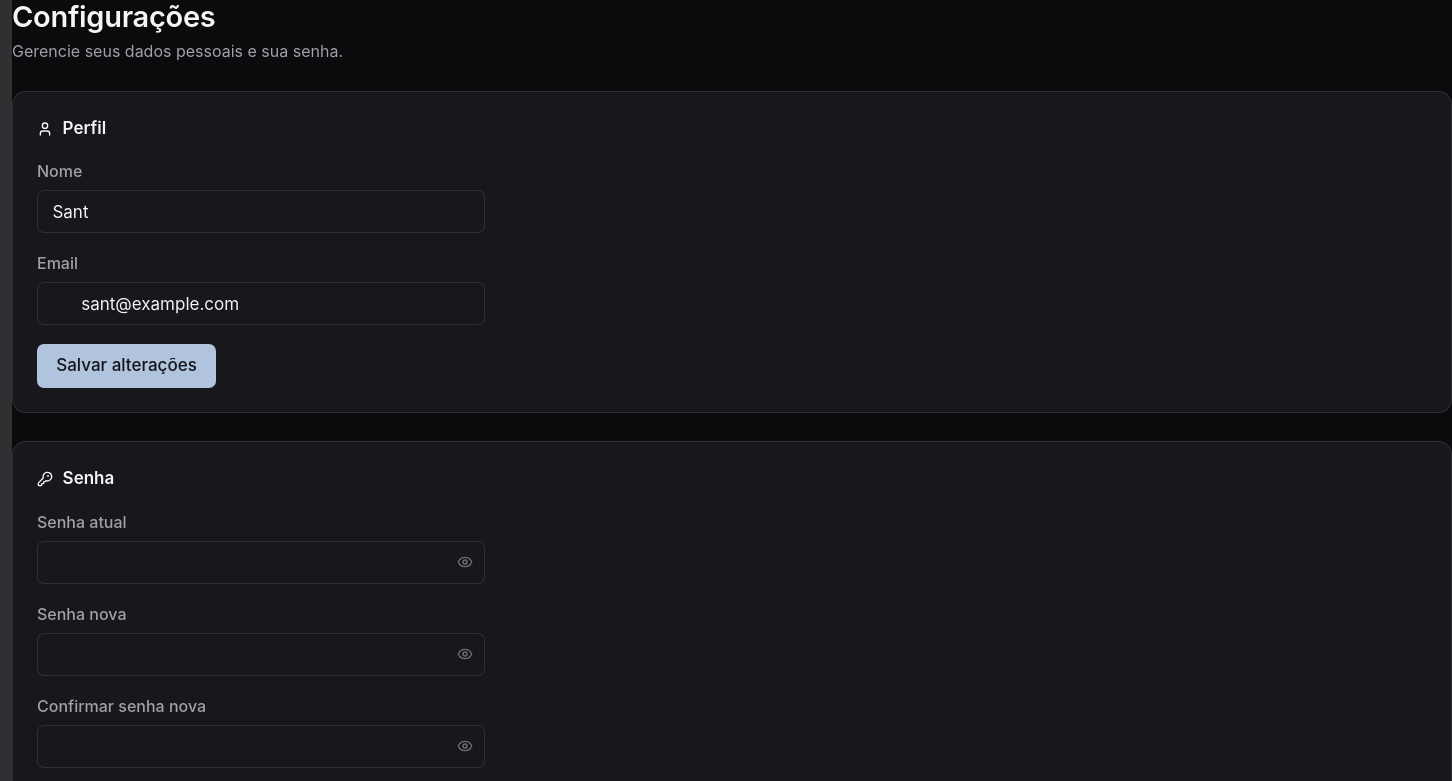
Test: ConfiguracoesPage › mapeia erro 401 de senha atual incorreta para o campo senha_atual
Expected: the field showing "Sant" is shown, [37, 190, 485, 233]
In the password field labelled "Senha atual": (261, 562) [37, 541, 485, 584], type "senhaErrada1"
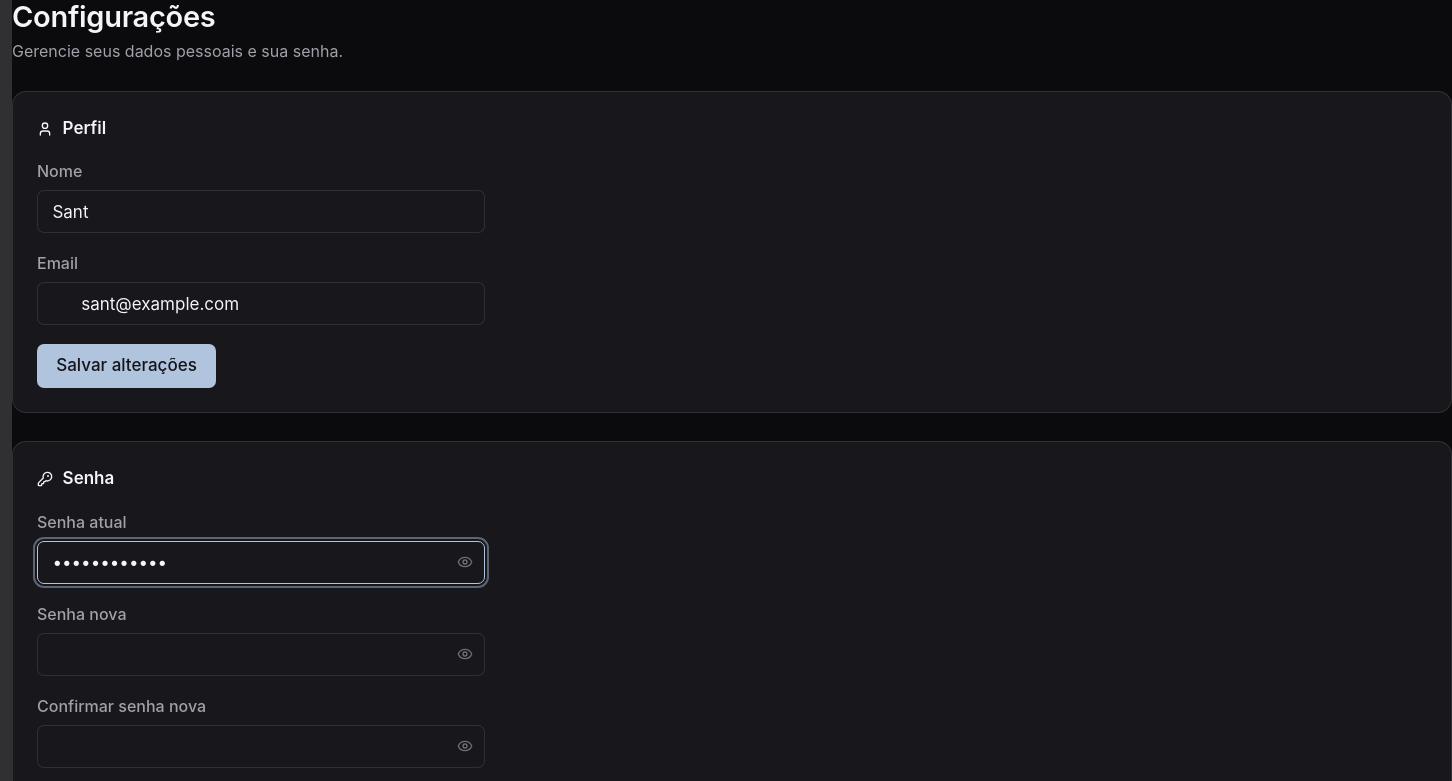
In the password field labelled "Senha nova": (261, 654) [37, 633, 485, 676], type "senhaNova123"
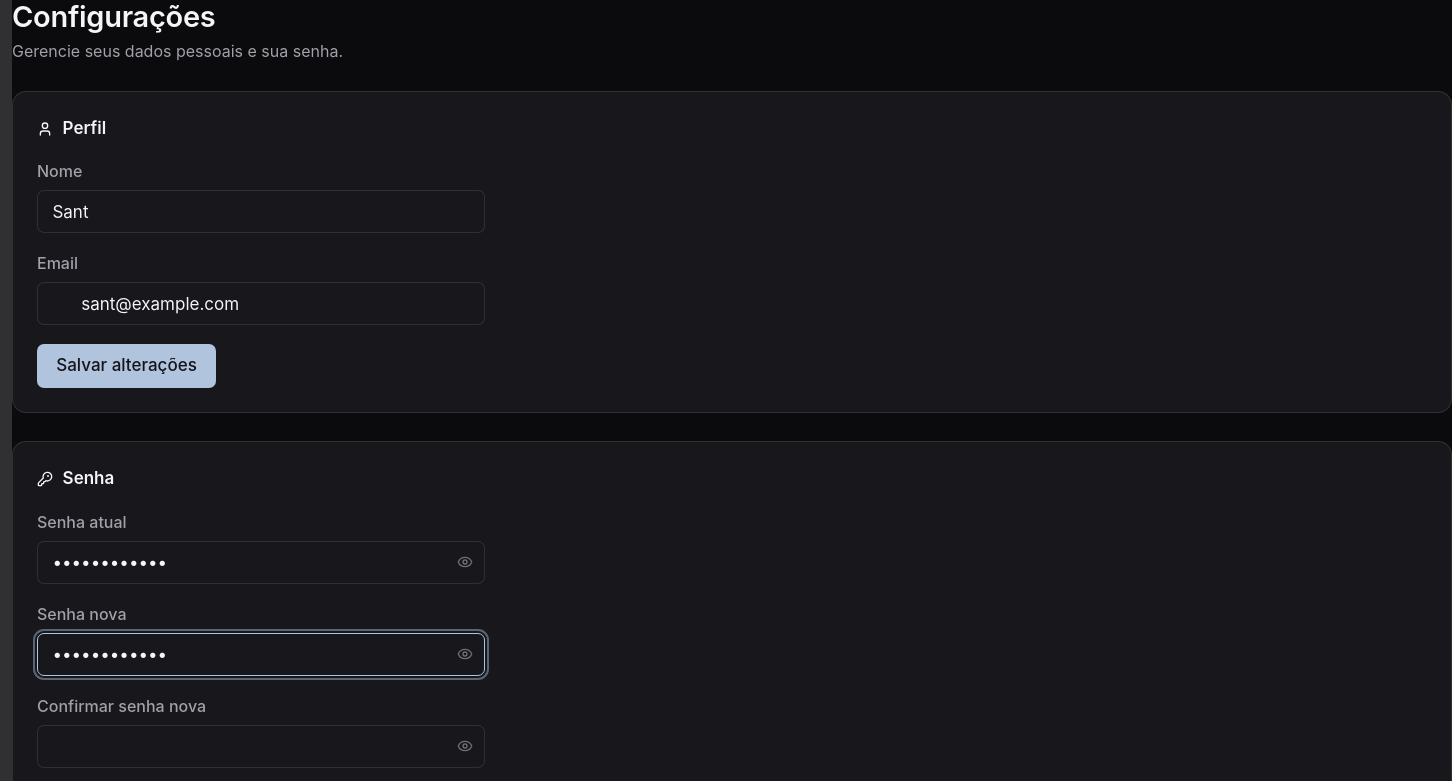
In the password field labelled "Confirmar senha nova": (261, 746) [37, 724, 485, 768], type "senhaNova123"
(page scrolled)
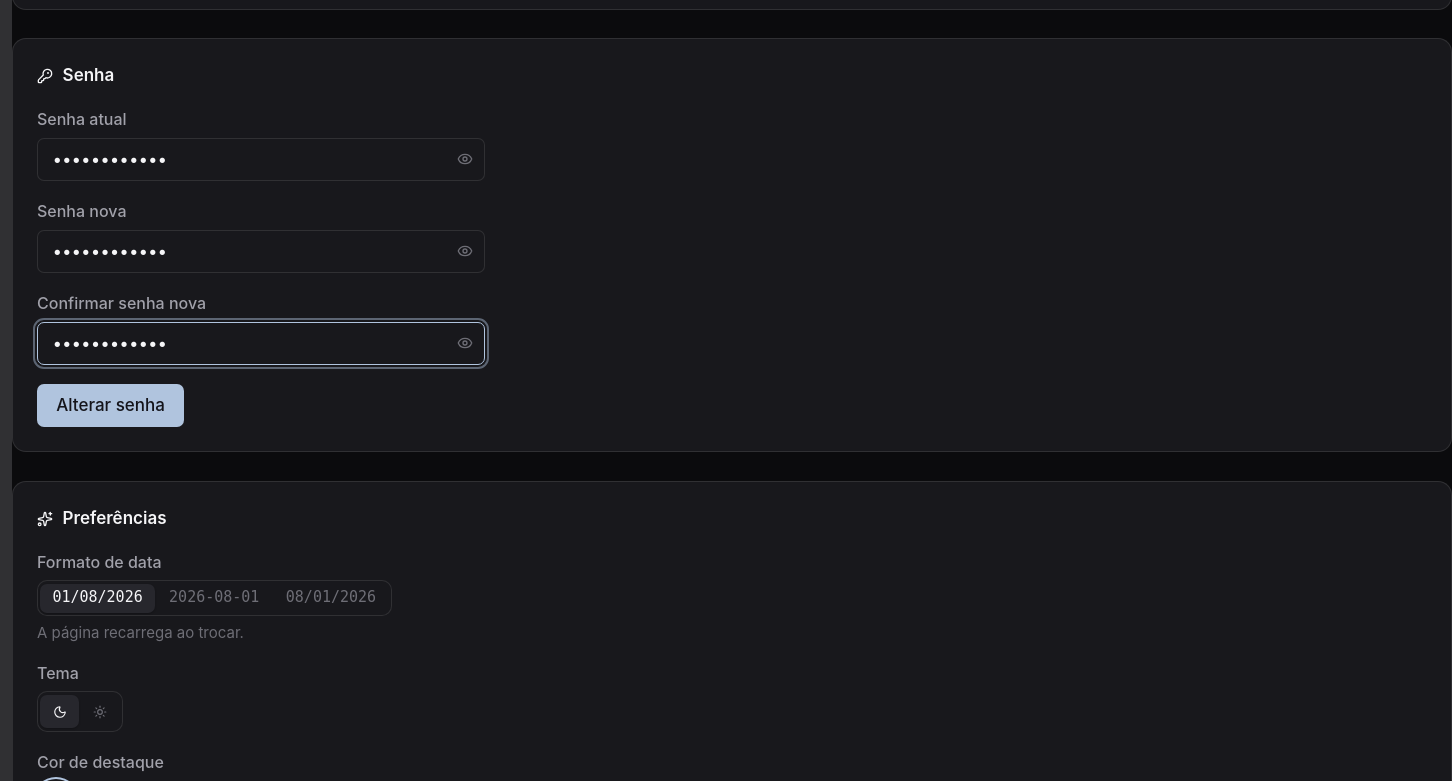
Click the button "Alterar senha": click(111, 406) [37, 384, 184, 427]
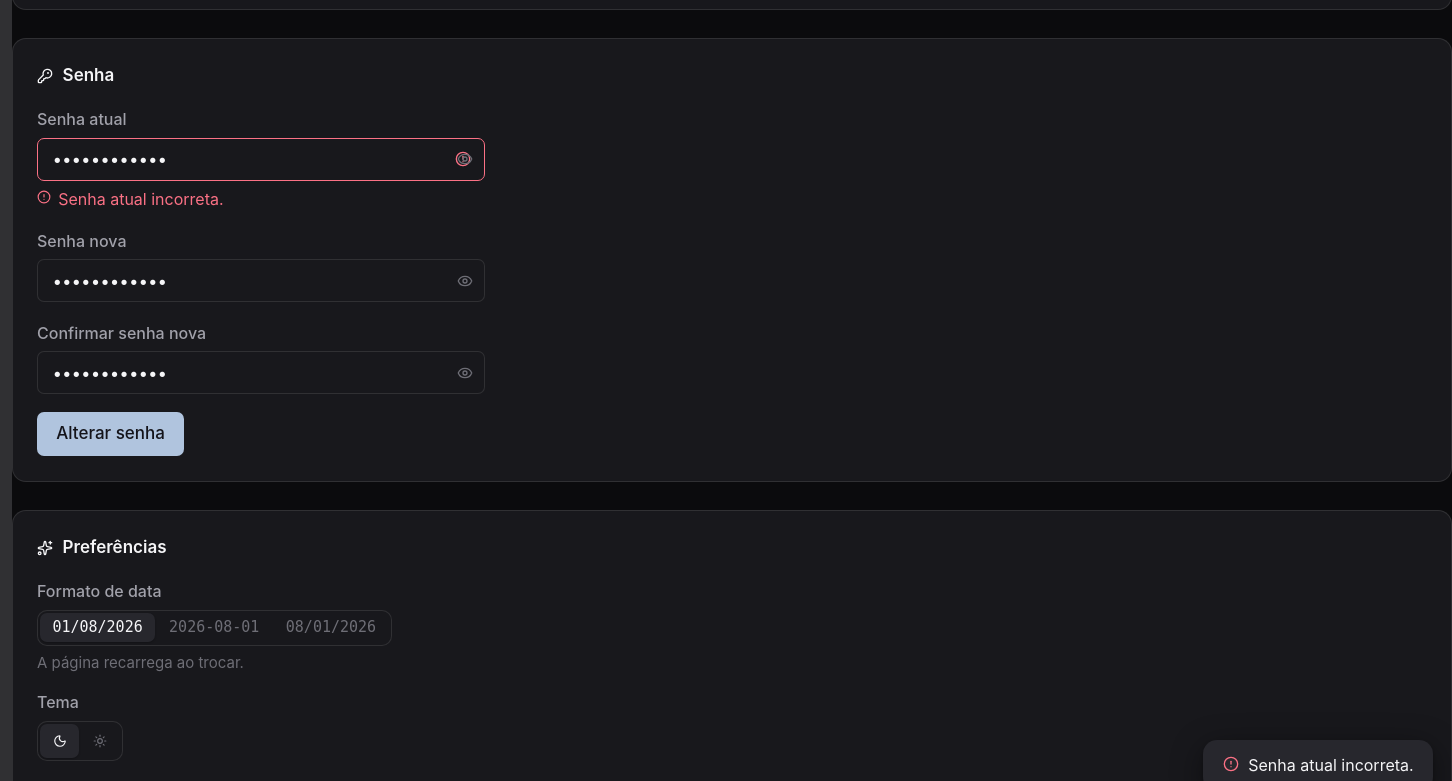
Expected: the message "Senha atual incorreta." below "Email" is shown, [58, 189, 224, 209]
